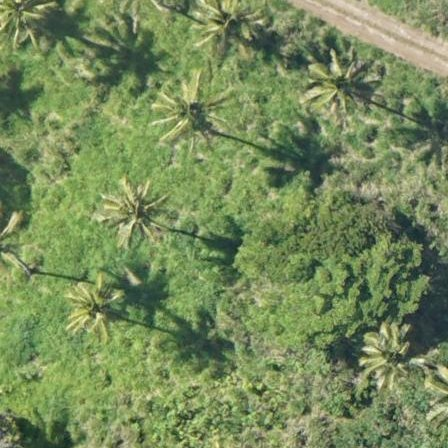palm_tree: (145, 68, 234, 160), (300, 43, 377, 125), (55, 272, 132, 343), (93, 172, 163, 247), (355, 319, 423, 392), (190, 1, 264, 58), (1, 1, 55, 47)
